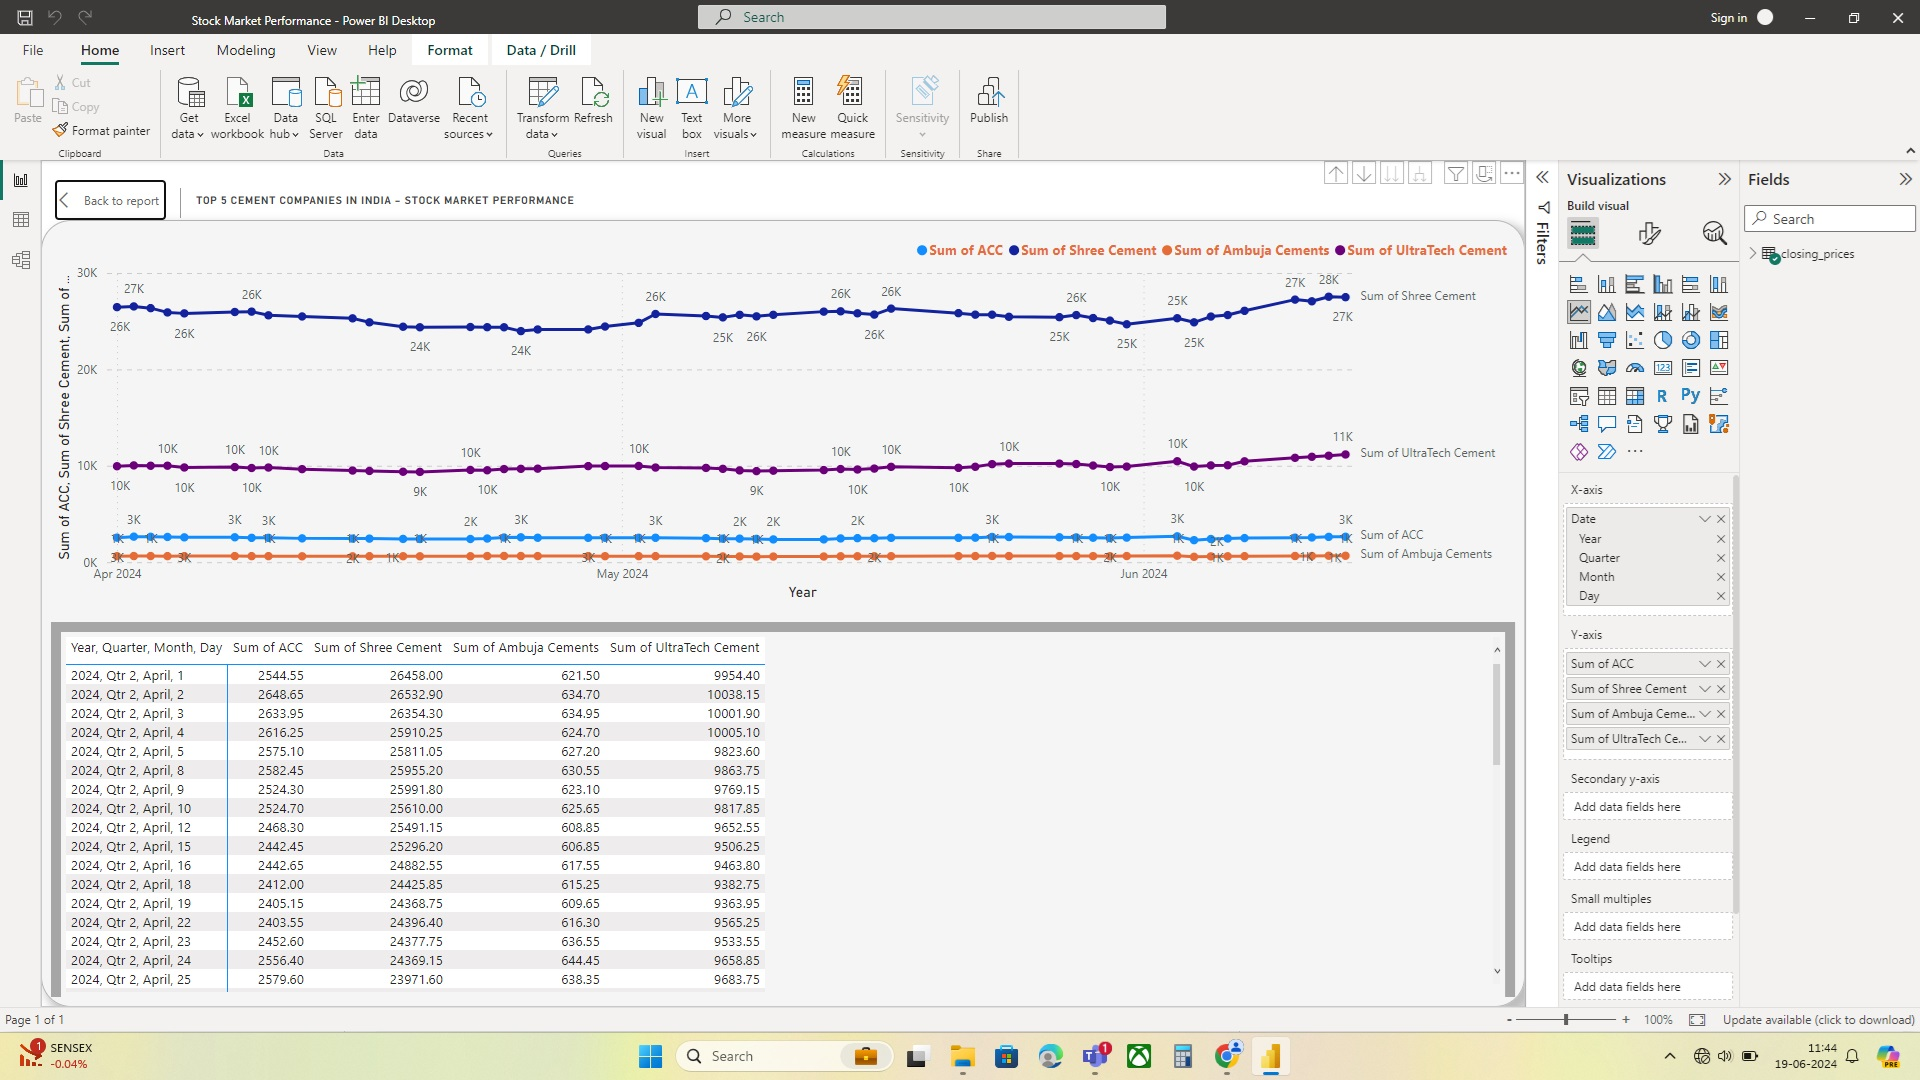

The page's visual inventory and layout, read from the dashboard file:
{"tool":"powerbi","page":{"name":"Page 1","canvas":[1280,720],"ordinal":0},"visuals":[{"type":"lineChart","title":"Top 5 Cement Companies in India - Stock Market Performance","fields":{"Category":["closing_prices.Date.Variation.Date Hierarchy.Year","closing_prices.Date.Variation.Date Hierarchy.Quarter","closing_prices.Date.Variation.Date Hierarchy.Month","closing_prices.Date.Variation.Date Hierarchy.Day"],"Y":["Sum(closing_prices.ACC)","Sum(closing_prices.Shree Cement)","Sum(closing_prices.Ambuja Cements)","Sum(closing_prices.UltraTech Cement)"]},"box":[8.1,0,1250.1,476.4],"z":0}]}

Visuals, with their boxes on the page's 1280x720 design canvas (x1, y1, x2, y2). These are canvas units, not pixel positions in the 1920x1080 screenshot, which may show the page scaled, cropped or inside an application window:
"Top 5 Cement Companies in India - Stock Market Performance" lineChart: 8/0/1258/476
